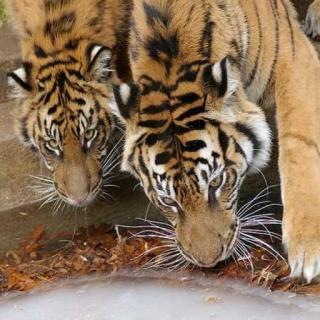Tiger: (116, 0, 319, 289), (0, 0, 137, 210)
